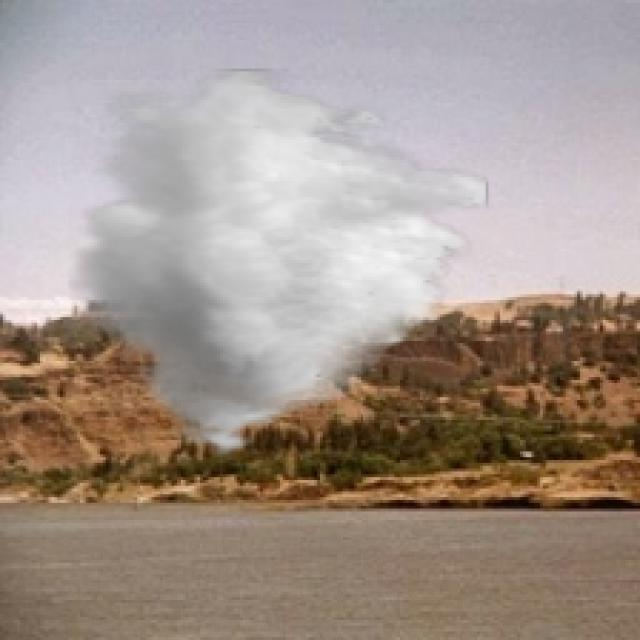smoke: (69, 68, 488, 463)
